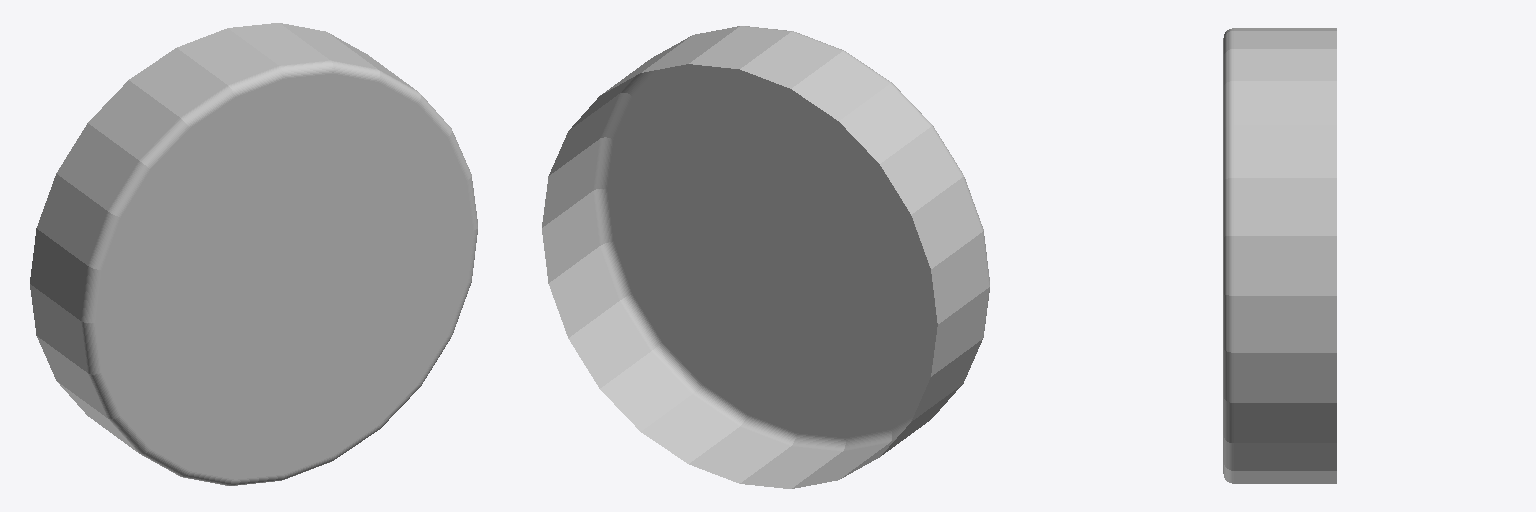
The model's file is original-3.obj.
The picture shows the model from 3 angles: view 1: azimuth 30°, elevation 25°; view 2: azimuth 150°, elevation 25°; view 3: azimuth 270°, elevation 25°; orthographic projection.
Visible parts, largest first — view 1: Group4/mesh5/mesh5-geometry#mesh5-geometry; view 2: Group4/mesh5/mesh5-geometry#mesh5-geometry; view 3: Group4/mesh5/mesh5-geometry#mesh5-geometry.
Part boxes in pixels (x1,y1,x2,y2): Group4/mesh5/mesh5-geometry#mesh5-geometry: (30, 23, 477, 485); Group4/mesh5/mesh5-geometry#mesh5-geometry: (542, 26, 989, 488); Group4/mesh5/mesh5-geometry#mesh5-geometry: (1223, 28, 1336, 483).
Bounding box in the file's own units: 0.727 × 0.727 × 0.1798.